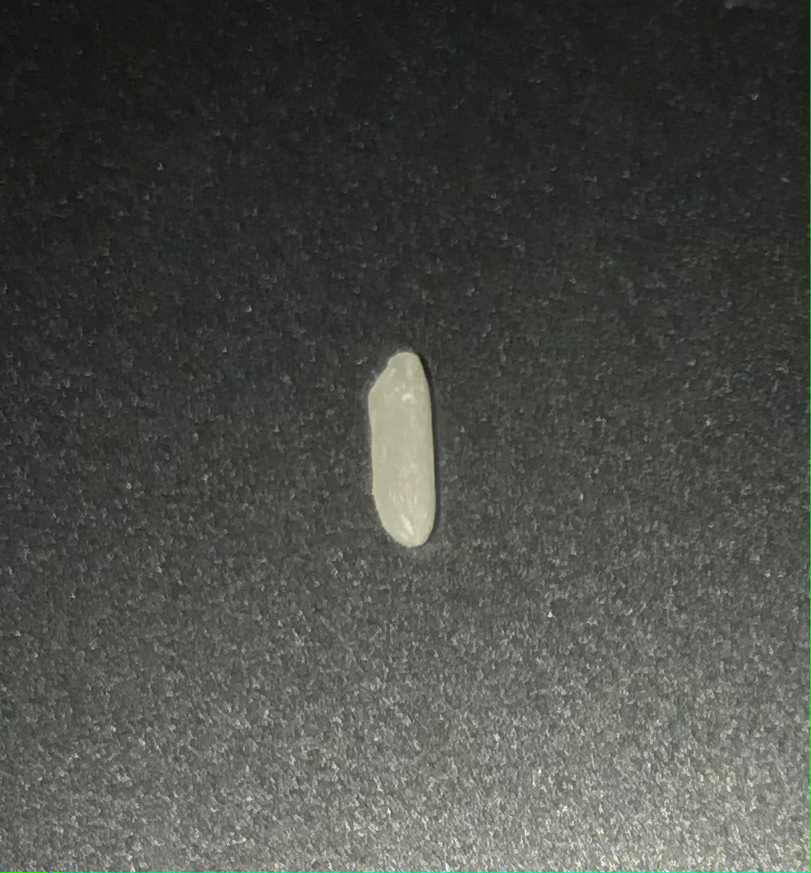Gao Tam Thom: (345, 330, 485, 573)
